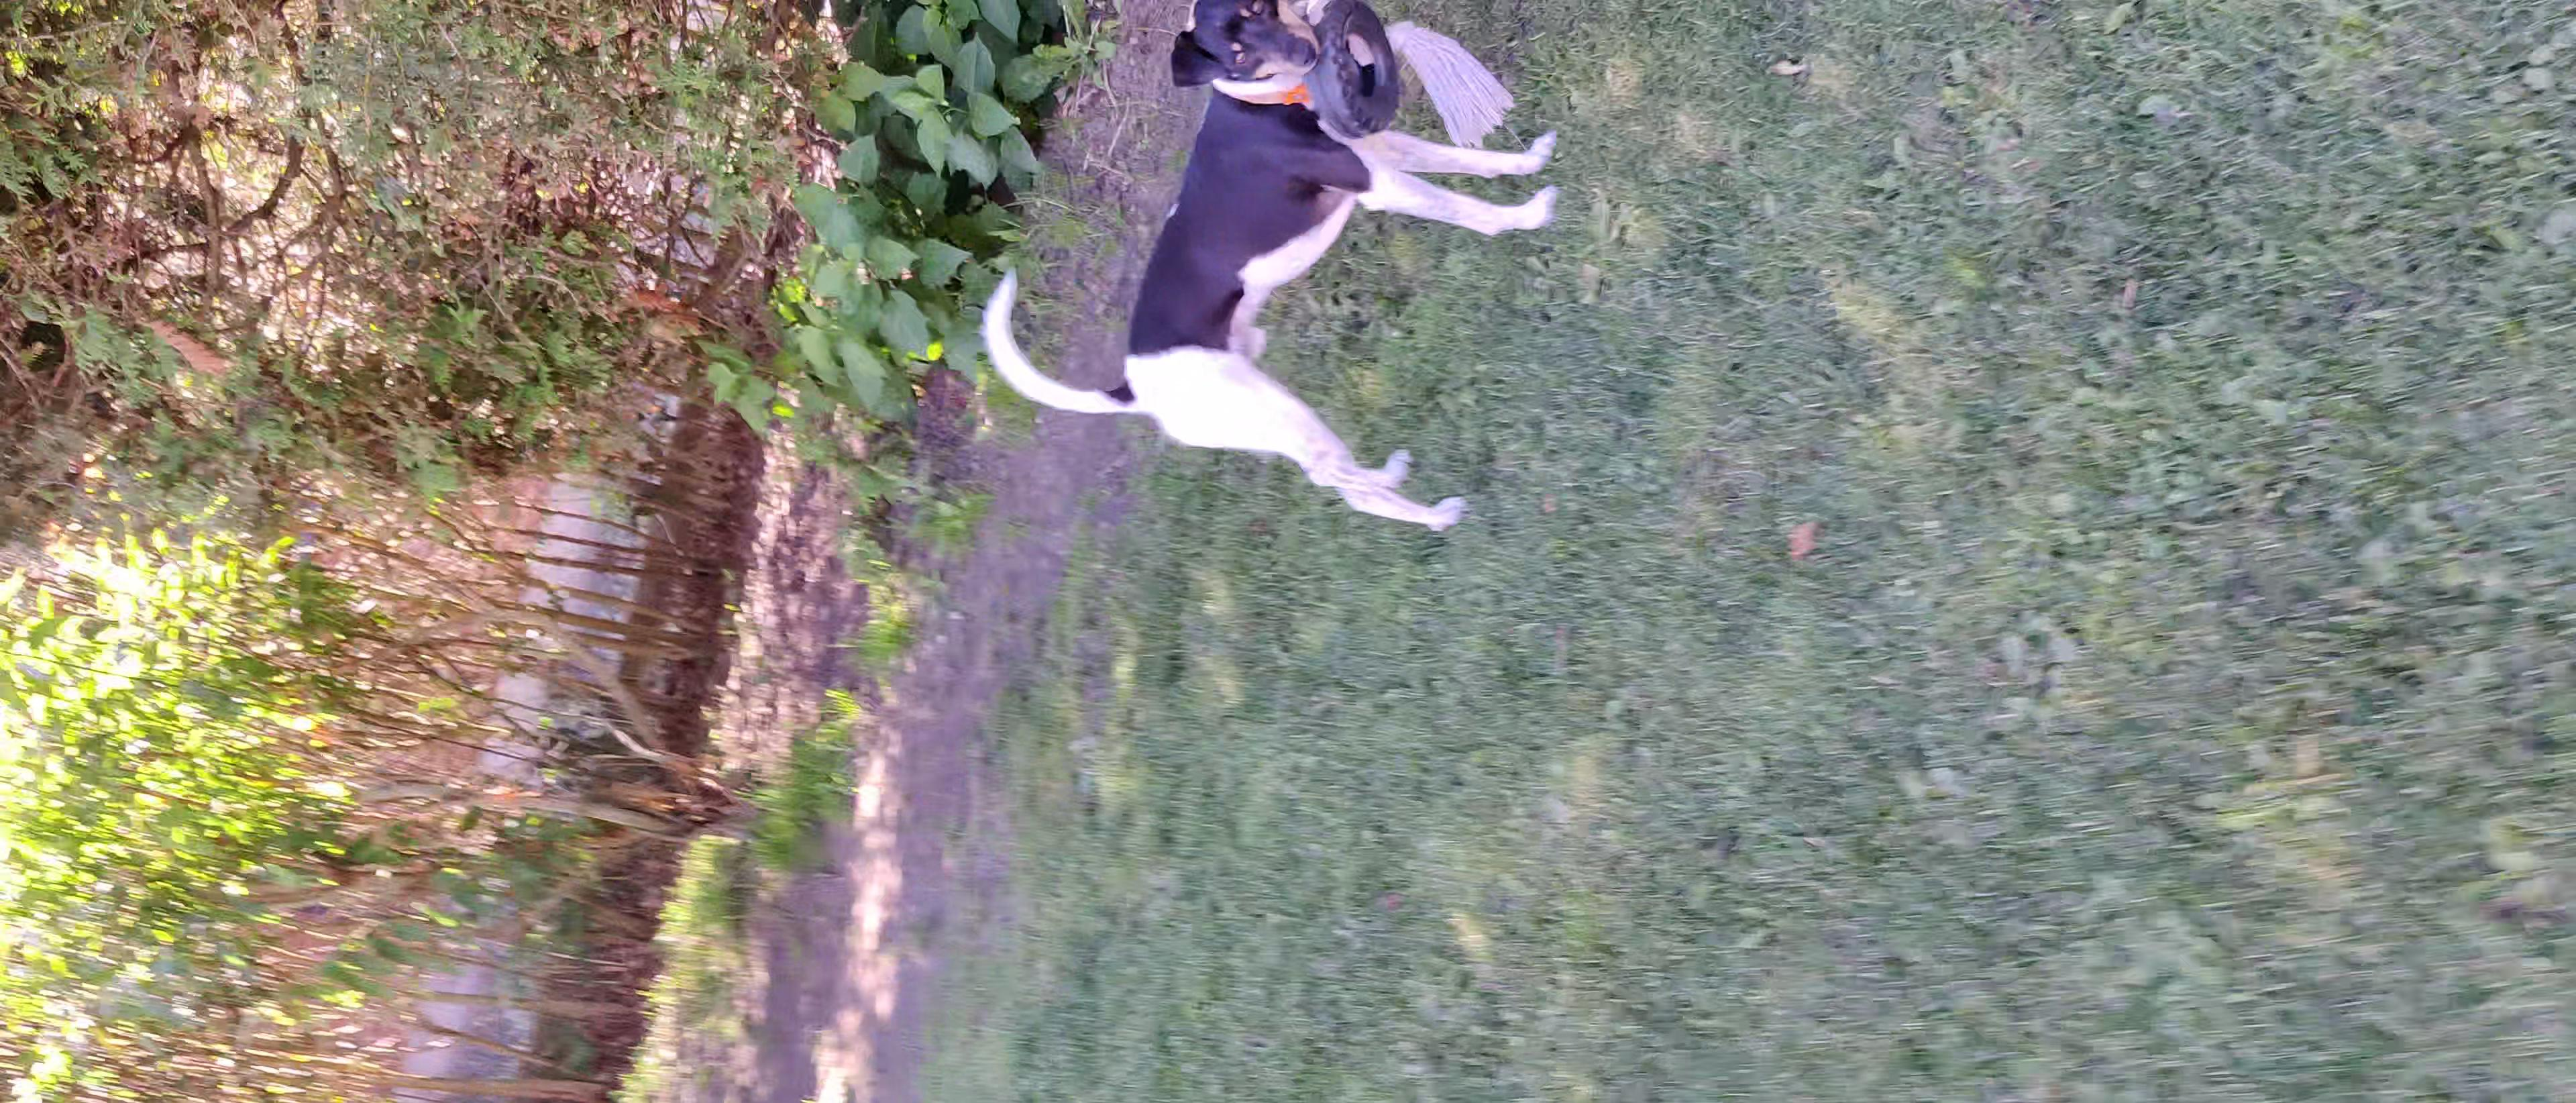Dog: (973, 0, 1574, 541)
